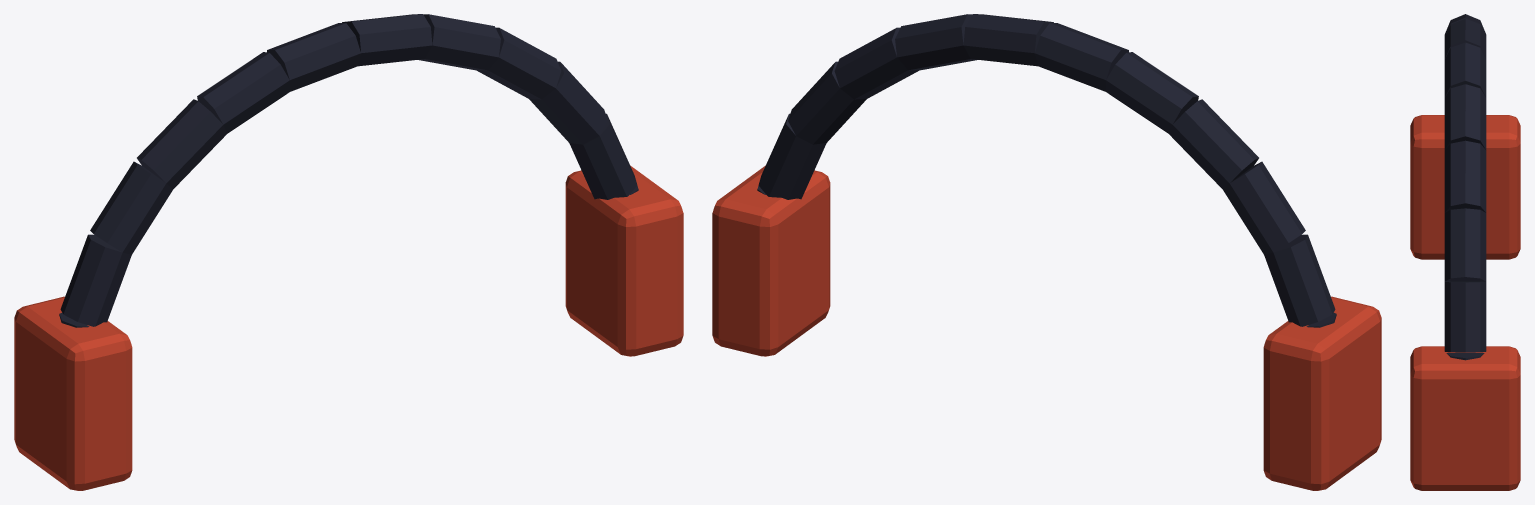
The model's file is headphones.glb.
3 renders of one model, left to right at view 1: azimuth 30°, elevation 25°; view 2: azimuth 150°, elevation 25°; view 3: azimuth 270°, elevation 25°, orthographic. The views are drawn at different scales.
Visible parts, largest first — view 1: headphone-cup--1, headphone-cup-1, Cylinder.008, Cylinder.009, Cylinder.007, Cylinder.010, Cylinder.006, Cylinder.005, Cylinder.004, Cylinder.003, Cylinder.002, Cylinder.001; view 2: headphone-cup--1, headphone-cup-1, Cylinder.008, Cylinder.009, Cylinder.007, Cylinder.010, Cylinder.006, Cylinder.005, Cylinder.004, Cylinder.003, Cylinder.002, Cylinder.001; view 3: headphone-cup-1, headphone-cup--1, Cylinder.002, Cylinder.001, Cylinder.003, Cylinder.004, Cylinder.005, Cylinder.006, Cylinder.007, Cylinder.
Part boxes in pixels (<box>): headphone-cup--1: <box>14,296,132,490</box>; headphone-cup-1: <box>565,165,683,356</box>; Cylinder.008: <box>137,99,226,189</box>; Cylinder.009: <box>90,161,172,254</box>; Cylinder.007: <box>197,52,289,133</box>; Cylinder.010: <box>60,234,131,326</box>; Cylinder.006: <box>267,23,360,91</box>; Cylinder.005: <box>342,14,432,66</box>; Cylinder.004: <box>418,14,500,70</box>; Cylinder.003: <box>476,27,561,99</box>; Cylinder.002: <box>529,61,607,144</box>; Cylinder.001: <box>569,113,637,199</box>; headphone-cup--1: <box>1263,296,1381,490</box>; headphone-cup-1: <box>712,165,830,356</box>; Cylinder.008: <box>1169,99,1258,189</box>; Cylinder.009: <box>1223,161,1305,254</box>; Cylinder.007: <box>1106,52,1198,133</box>; Cylinder.010: <box>1264,234,1335,326</box>; Cylinder.006: <box>1035,23,1128,91</box>; Cylinder.005: <box>963,14,1053,66</box>; Cylinder.004: <box>895,14,977,70</box>; Cylinder.003: <box>834,27,919,99</box>; Cylinder.002: <box>788,61,866,144</box>; Cylinder.001: <box>758,113,826,199</box>; headphone-cup-1: <box>1410,346,1520,490</box>; headphone-cup--1: <box>1410,115,1520,259</box>; Cylinder.002: <box>1444,208,1486,281</box>; Cylinder.001: <box>1444,281,1486,352</box>; Cylinder.003: <box>1444,140,1486,212</box>; Cylinder.004: <box>1444,84,1486,149</box>; Cylinder.005: <box>1444,42,1486,97</box>; Cylinder.006: <box>1444,18,1486,59</box>; Cylinder.007: <box>1444,14,1486,37</box>; Cylinder: <box>1446,353,1484,360</box>.
Bounding box in the file's own units: 0.525 × 0.3079 × 0.095.
